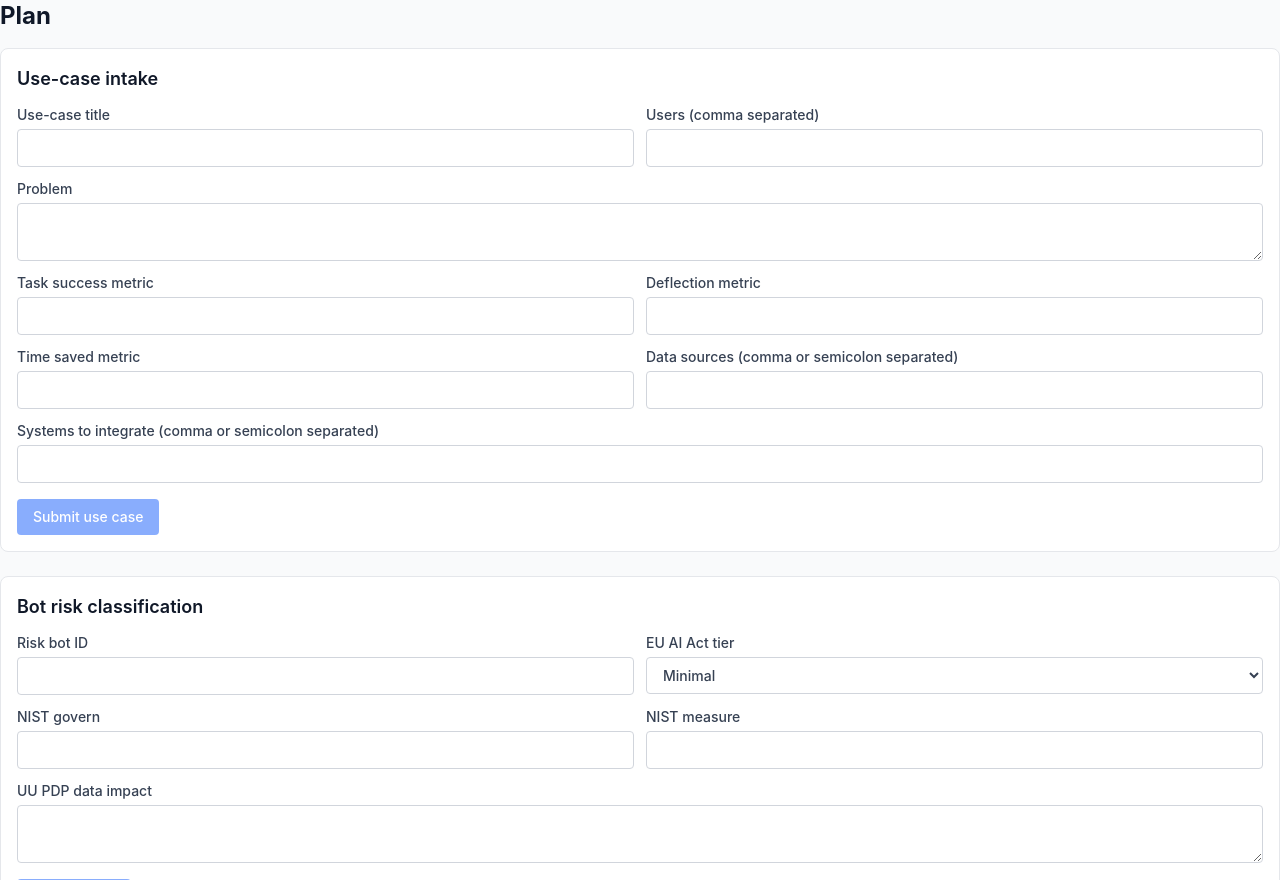
PlanScreen › shows a generic localized risk-classification error without server text
In the field labelled "Risk bot ID": (326, 676) [17, 657, 634, 695], type "11111111-1111-1111-1111-111111111111"
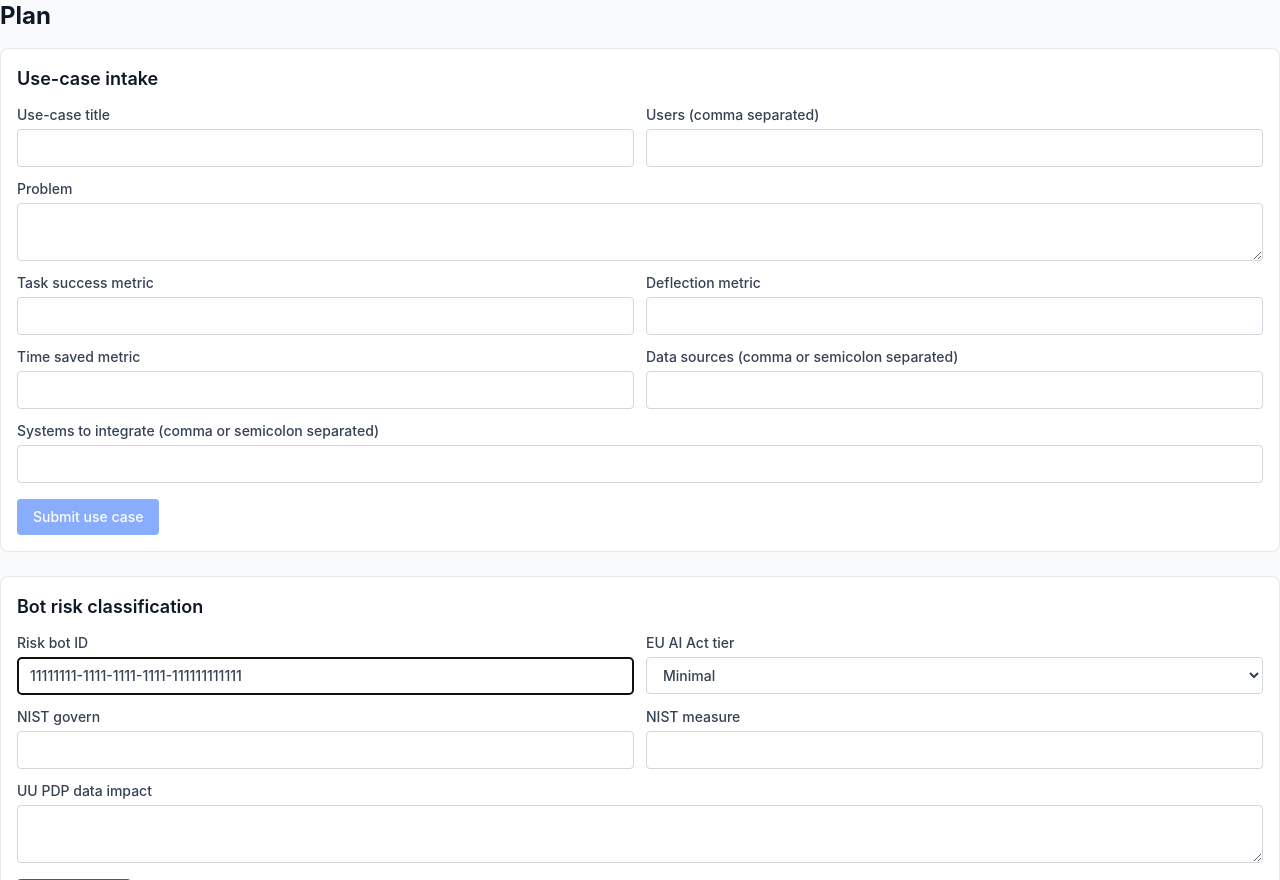
In the text box labelled "UU PDP data impact": (640, 834) [17, 805, 1263, 863], type "No personal data"
(page scrolled)
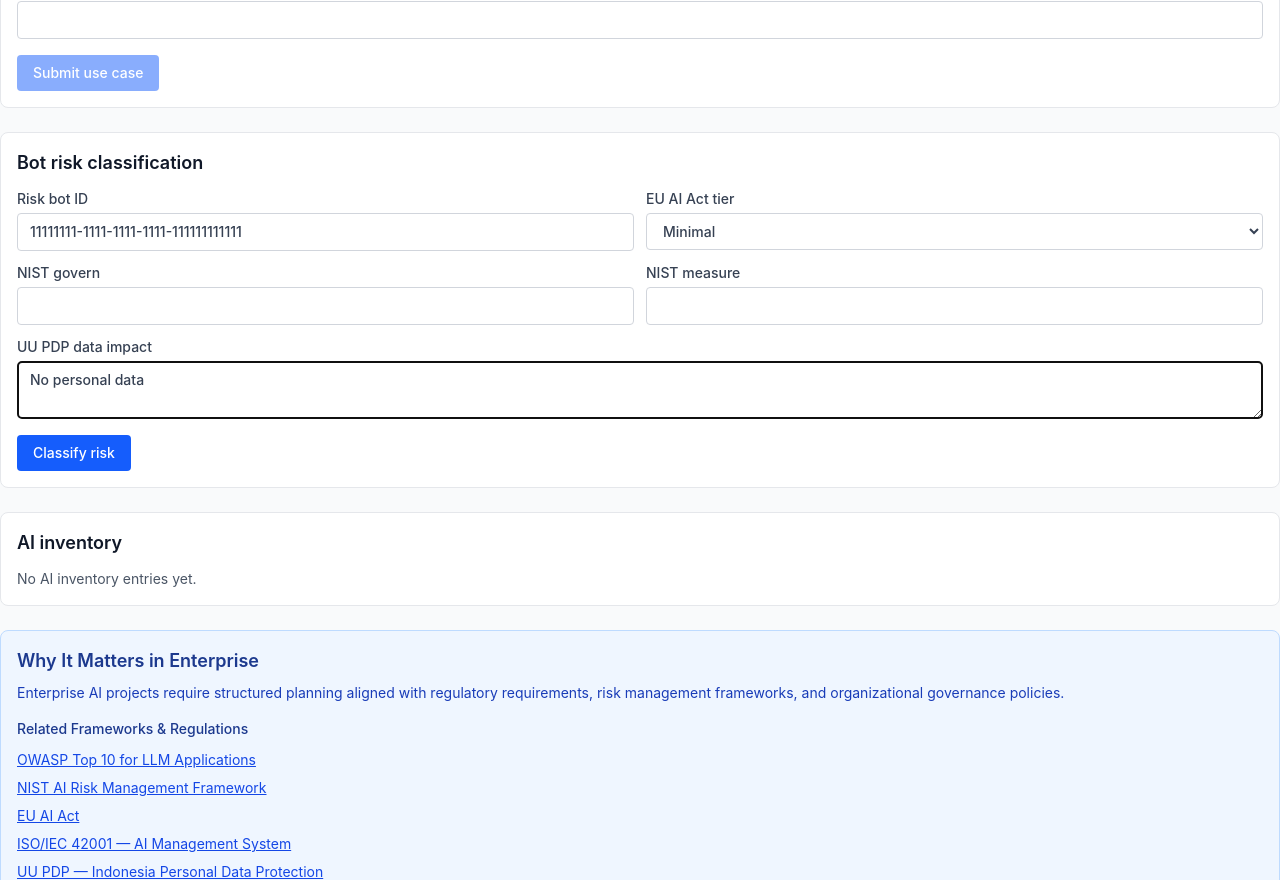
Click the button "Classify risk": (74, 453) [17, 435, 131, 471]
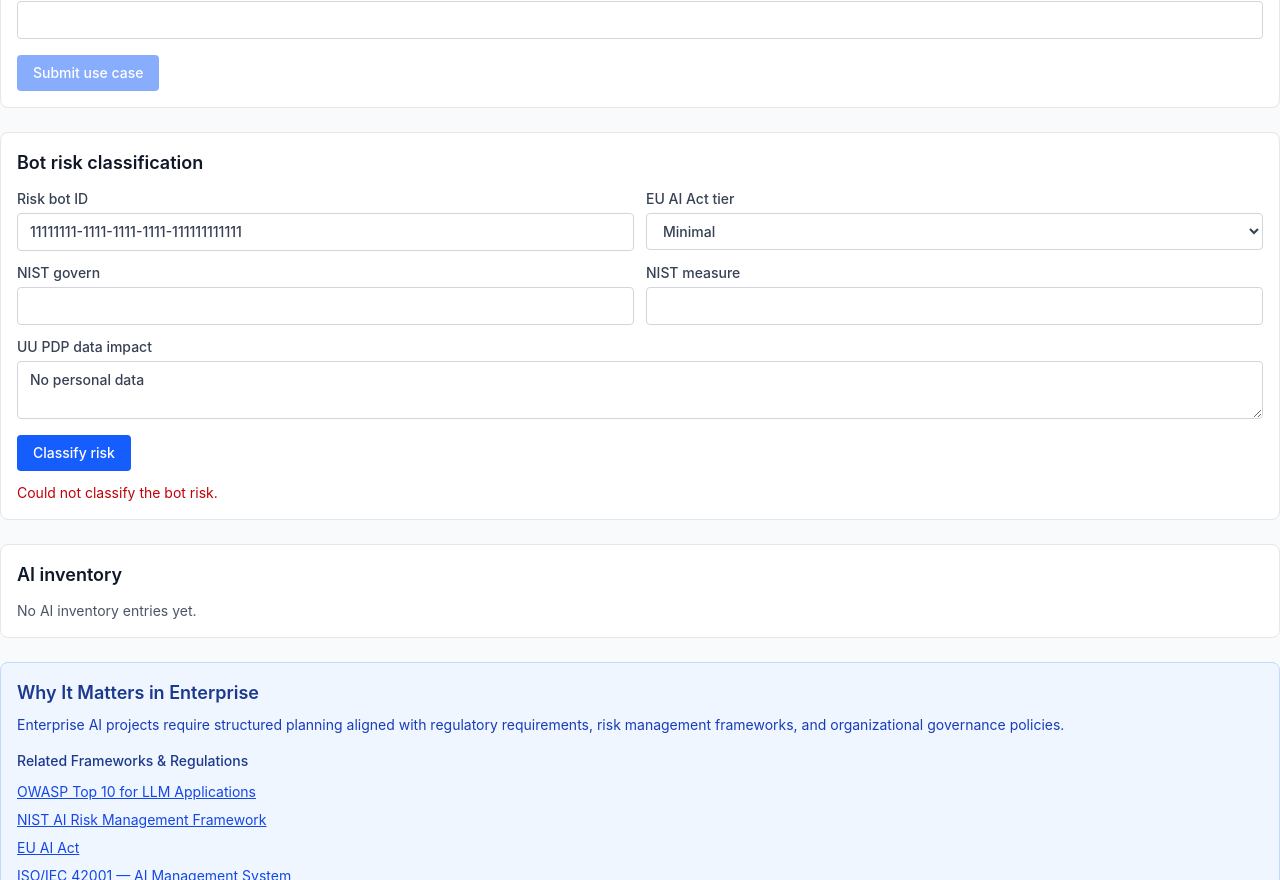
Expected: the message shows "Could not classify", [17, 484, 218, 501]
